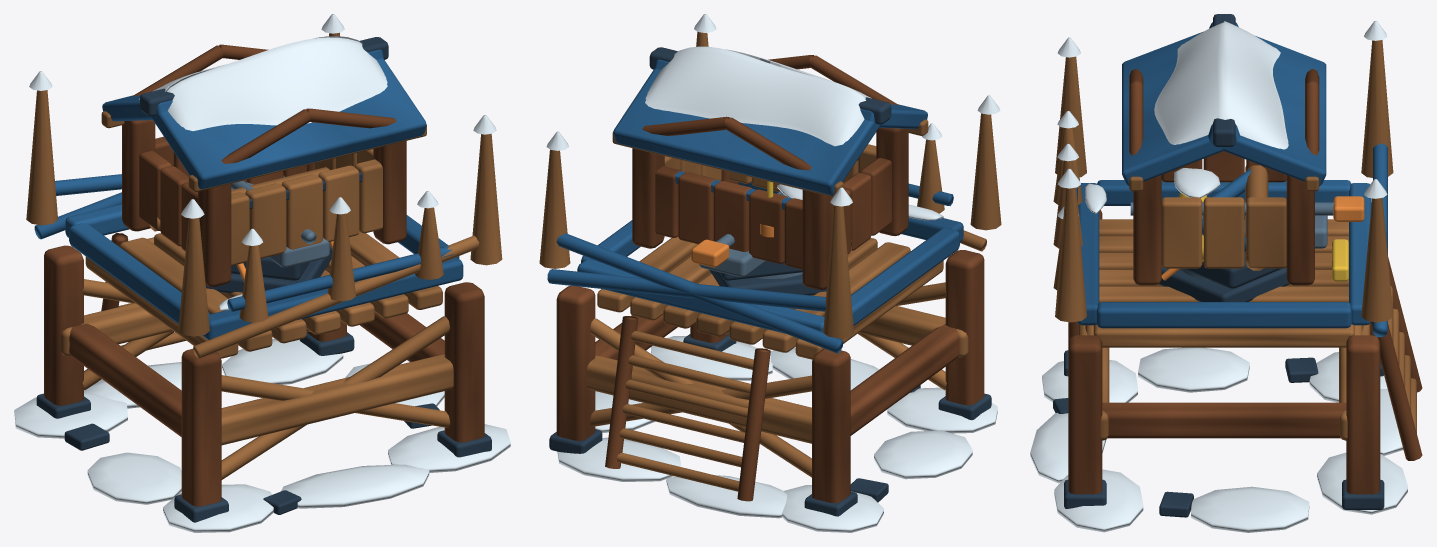
The model's file is defense_platform.glb.
3 renders of one model, left to right at view 1: azimuth 30°, elevation 25°; view 2: azimuth 150°, elevation 25°; view 3: azimuth 270°, elevation 25°, orthographic. The views are drawn at different scales.
Parts seen in each view (by area): view 1: defense_platform; view 2: defense_platform; view 3: defense_platform.
Part boxes in pixels (box(x1,y1,x2,y2)): defense_platform: box(14, 14, 510, 532); defense_platform: box(539, 14, 1001, 532); defense_platform: box(1030, 14, 1422, 532).
Size of the model in its own units: 3.02 by 3.08 by 2.76.
